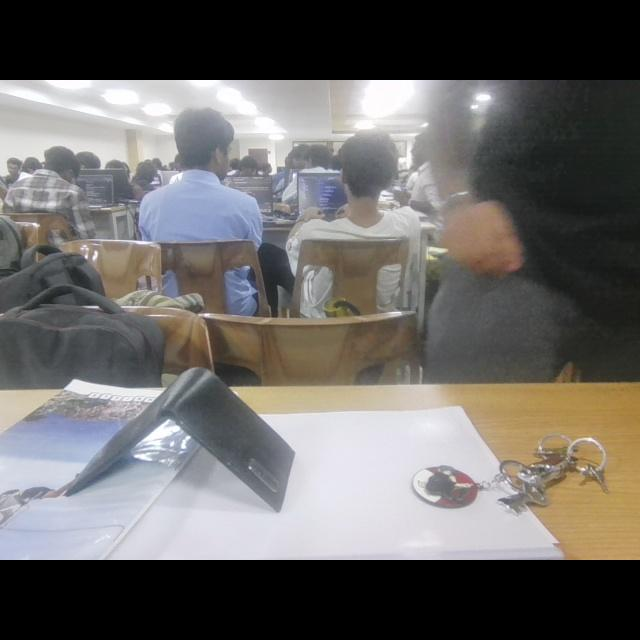keys: (406, 424, 632, 530)
wallet: (80, 359, 308, 513)
